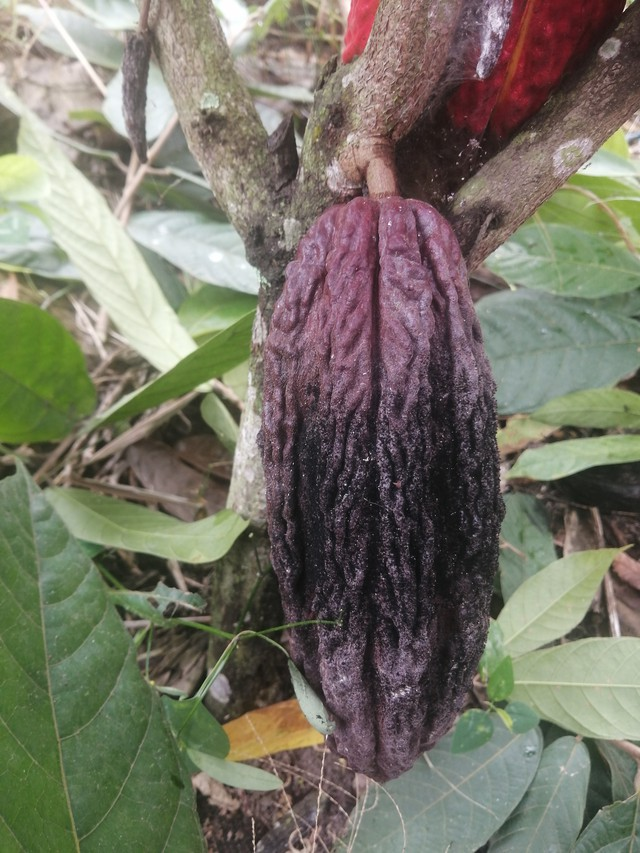phytophthora palmivora: (247, 183, 513, 793)
